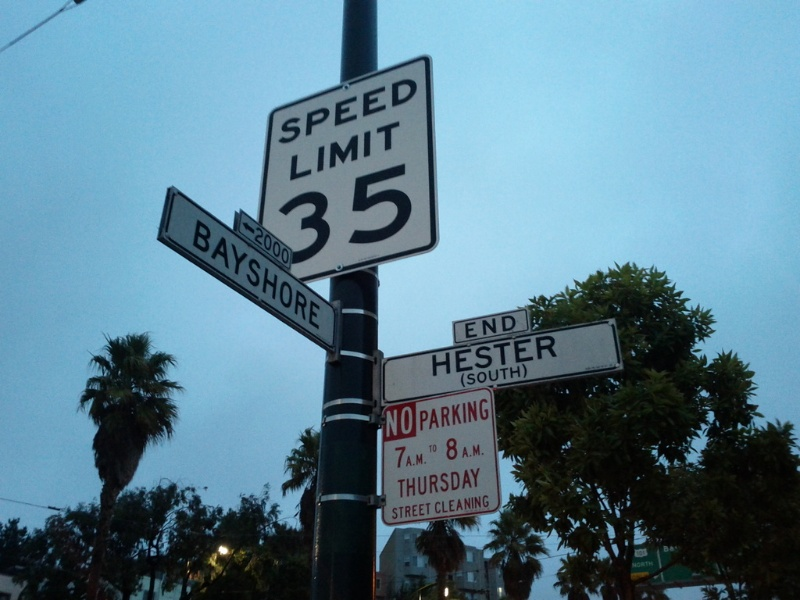no_parking: (380, 404, 510, 516)
speed_limit_35: (246, 94, 441, 263)
